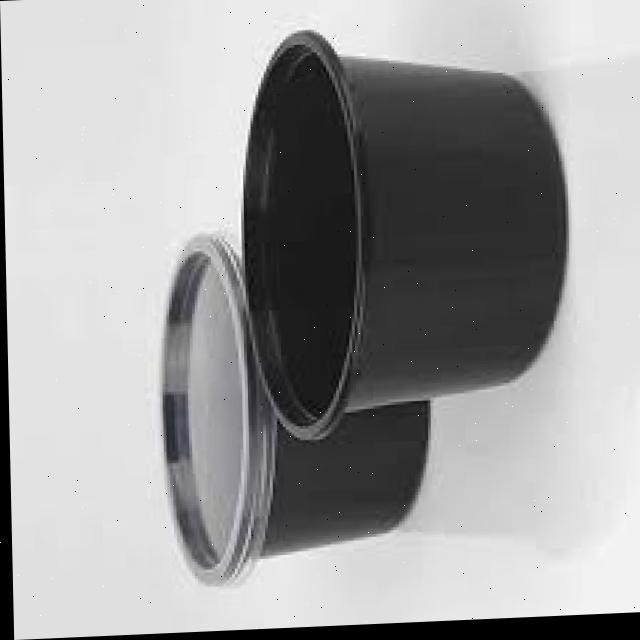disposable: (148, 202, 446, 594)
